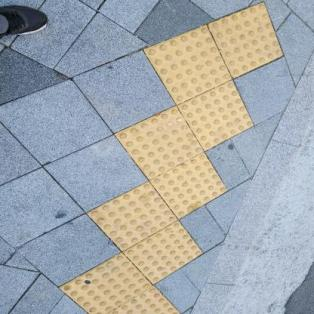Podoctatil: (56, 0, 290, 314)
